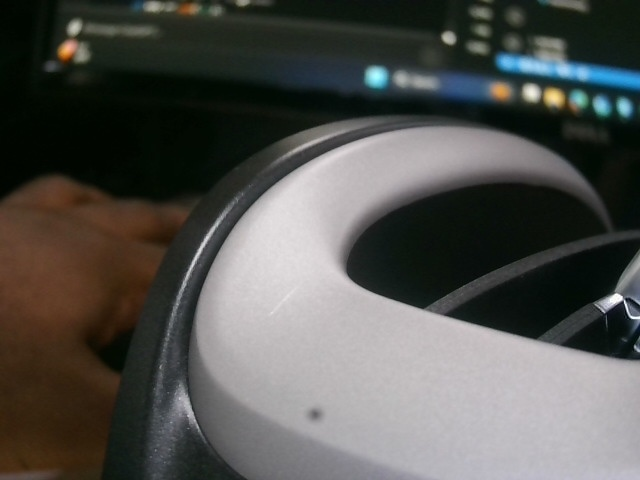NG: (270, 266, 309, 326), (225, 163, 258, 203)
